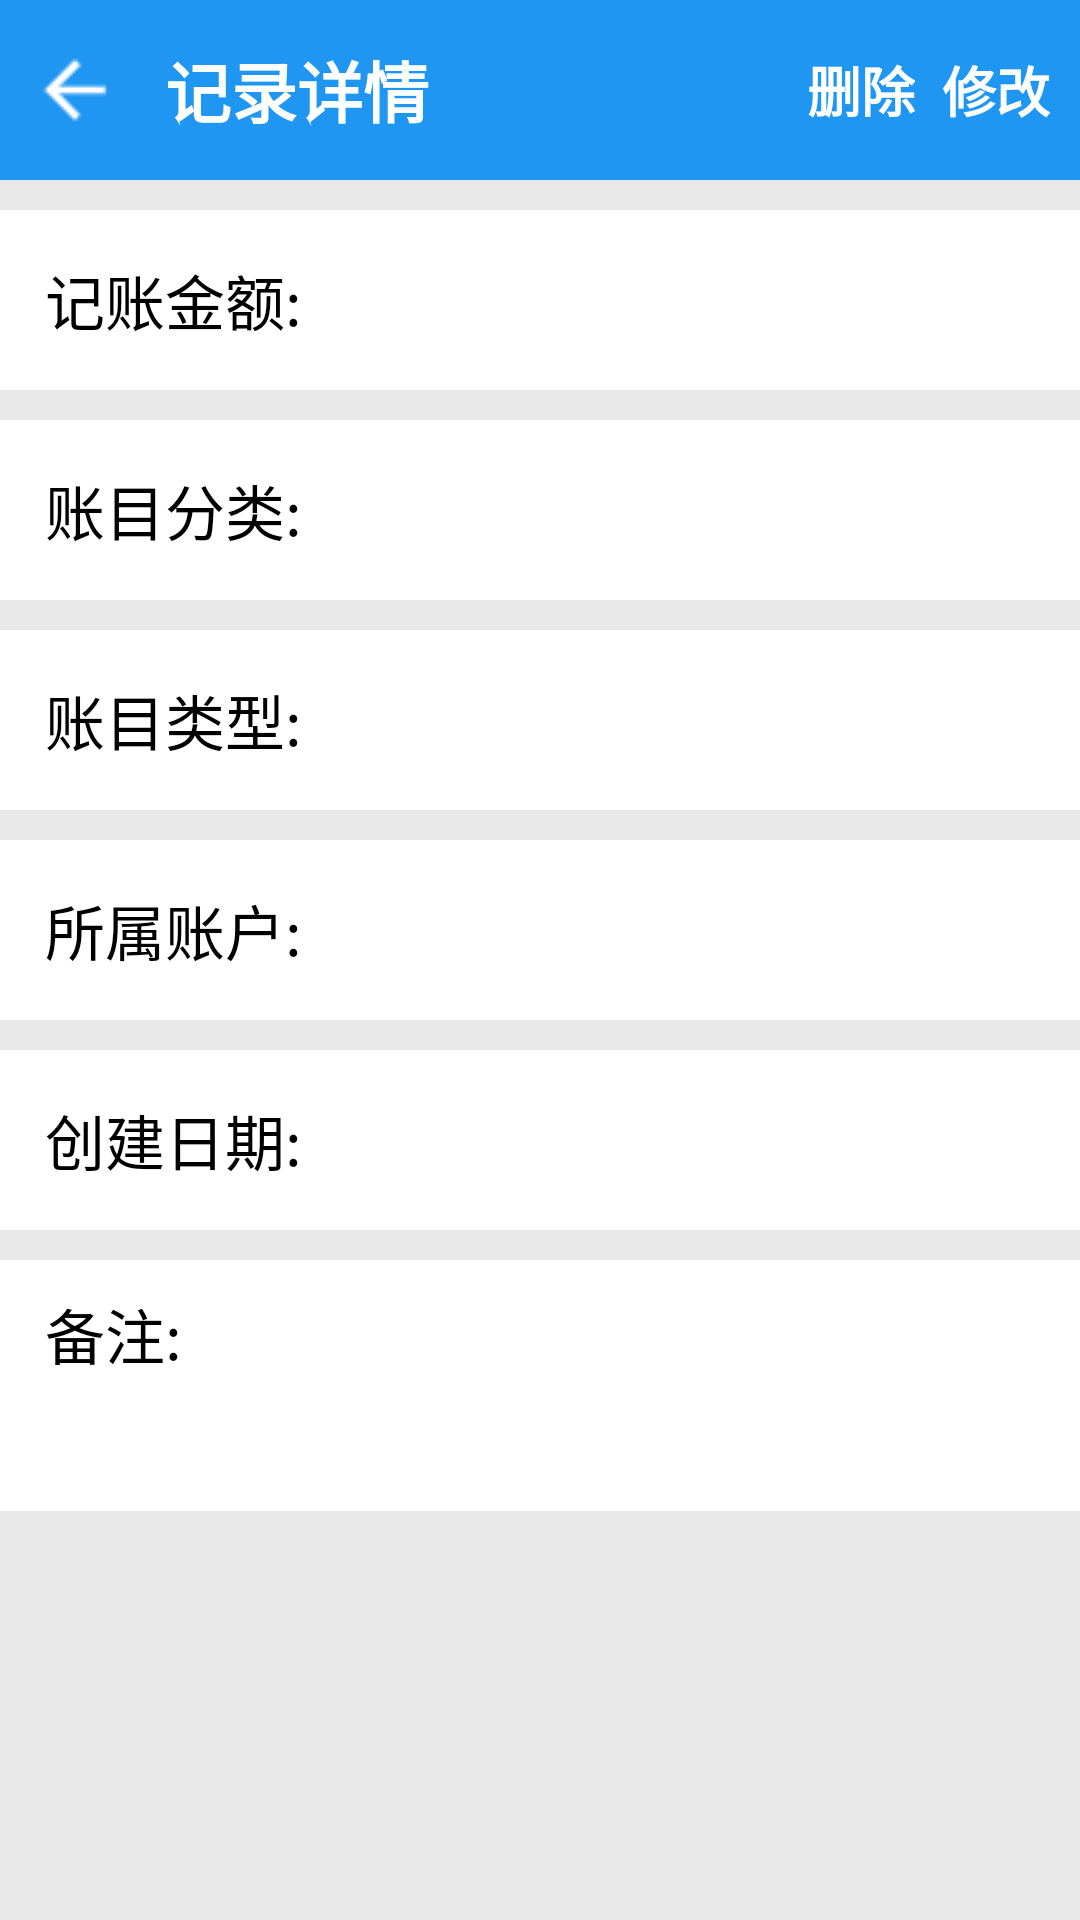

Point at icon controls on the screen. Image size 1080 × 1920, points as (x=x, y=y).
arrow back android: (x=75, y=90)
